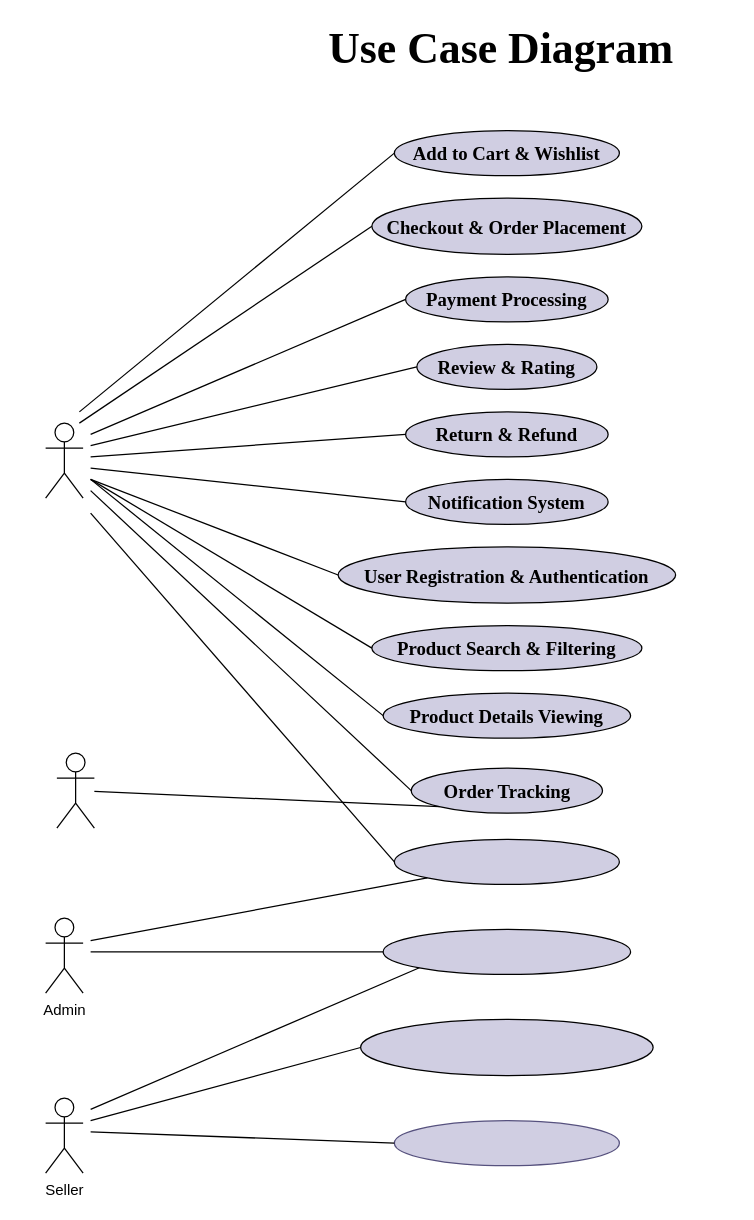
Some shapes in this 754 by 1220 pixel diagram are drawn without their labels. Each missing label, with the box of its shape:
Delivery Partner: (56, 752, 94, 828)
Live Chat Support: (393, 838, 619, 884)
Product Listing & Management: (359, 1018, 653, 1076)
Sales Report Generation: (382, 928, 631, 974)
Seller Verification: (393, 1119, 619, 1166)
User: (44, 422, 83, 498)
